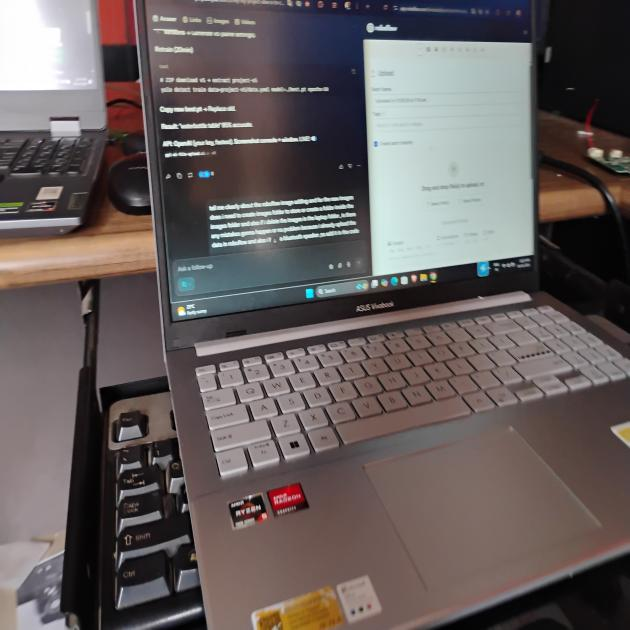laptop: (118, 6, 630, 618)
